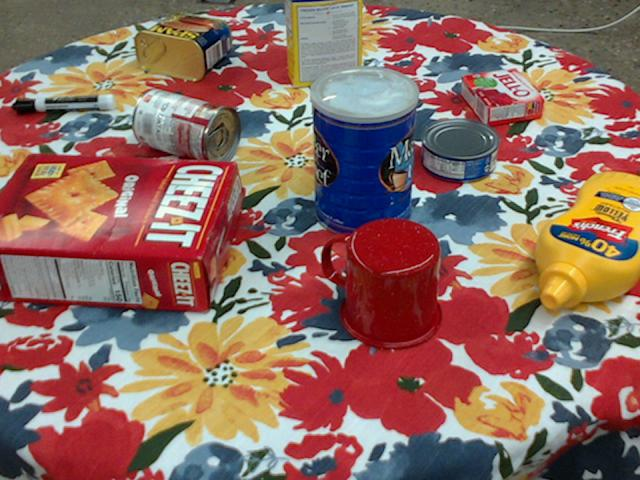cracker_box: (0, 153, 240, 311)
gelatin_box: (459, 70, 541, 127)
large_marker: (13, 93, 114, 112)
master_chef_can: (309, 66, 417, 240)
mug: (321, 218, 441, 350)
mustard_bottle: (535, 170, 639, 307)
potted_meat_can: (134, 12, 231, 80)
sugar_box: (286, 0, 363, 85)
tomato_soup_can: (131, 89, 239, 166)
tuna_fish_can: (421, 118, 499, 182)
